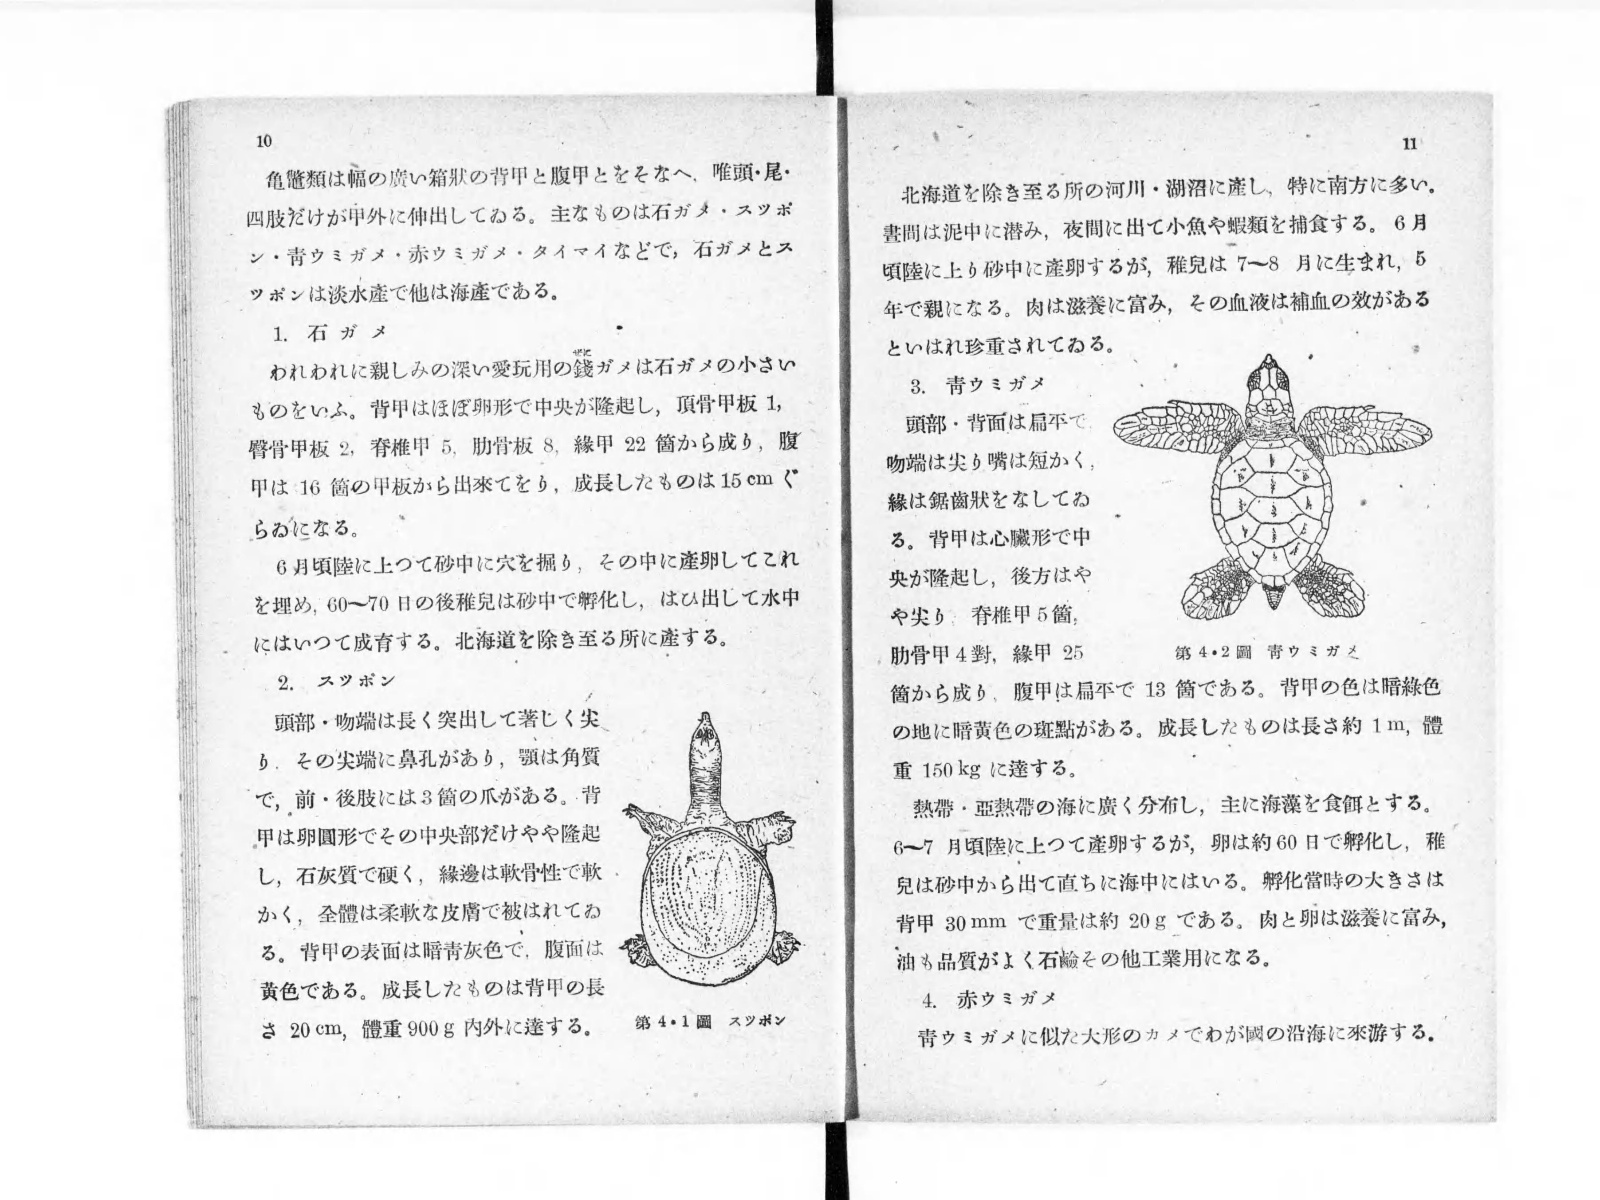1_overall: (173, 100, 1495, 1128)
4_illustration: (1112, 354, 1432, 621), (619, 711, 800, 987)
6_headline: (911, 376, 1043, 395), (923, 989, 1054, 1008), (278, 673, 393, 692), (273, 324, 384, 343)
7_caption: (1175, 645, 1354, 662), (636, 1013, 784, 1030)
8_textline: (883, 214, 1426, 247), (883, 251, 1426, 282), (270, 349, 795, 381), (252, 469, 797, 498), (884, 290, 1429, 319), (249, 431, 800, 459), (910, 175, 1432, 204), (254, 587, 797, 615), (894, 831, 1444, 857), (891, 677, 1440, 703), (247, 202, 791, 228), (266, 163, 782, 190), (897, 908, 1445, 933), (277, 551, 797, 577), (251, 241, 792, 266), (254, 626, 724, 655), (252, 395, 781, 420), (893, 716, 1443, 740), (897, 871, 1443, 895), (913, 793, 1429, 818), (918, 1024, 1432, 1047), (894, 947, 1267, 971), (260, 862, 602, 887), (263, 1017, 590, 1041), (261, 978, 603, 1001), (275, 708, 598, 732), (262, 940, 603, 963), (258, 903, 598, 925), (258, 824, 598, 847), (260, 747, 598, 770), (251, 282, 556, 304), (256, 788, 510, 811), (891, 527, 1089, 550), (889, 566, 1091, 587), (888, 490, 1089, 512), (888, 337, 1111, 355), (887, 451, 1082, 473), (891, 644, 1083, 666), (891, 604, 1072, 626), (893, 759, 1073, 779), (906, 412, 1067, 434), (481, 787, 598, 805), (256, 518, 355, 539), (257, 129, 277, 147), (1402, 131, 1421, 151)
